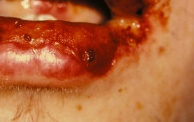SJS-TEN: (0, 0, 190, 122)
